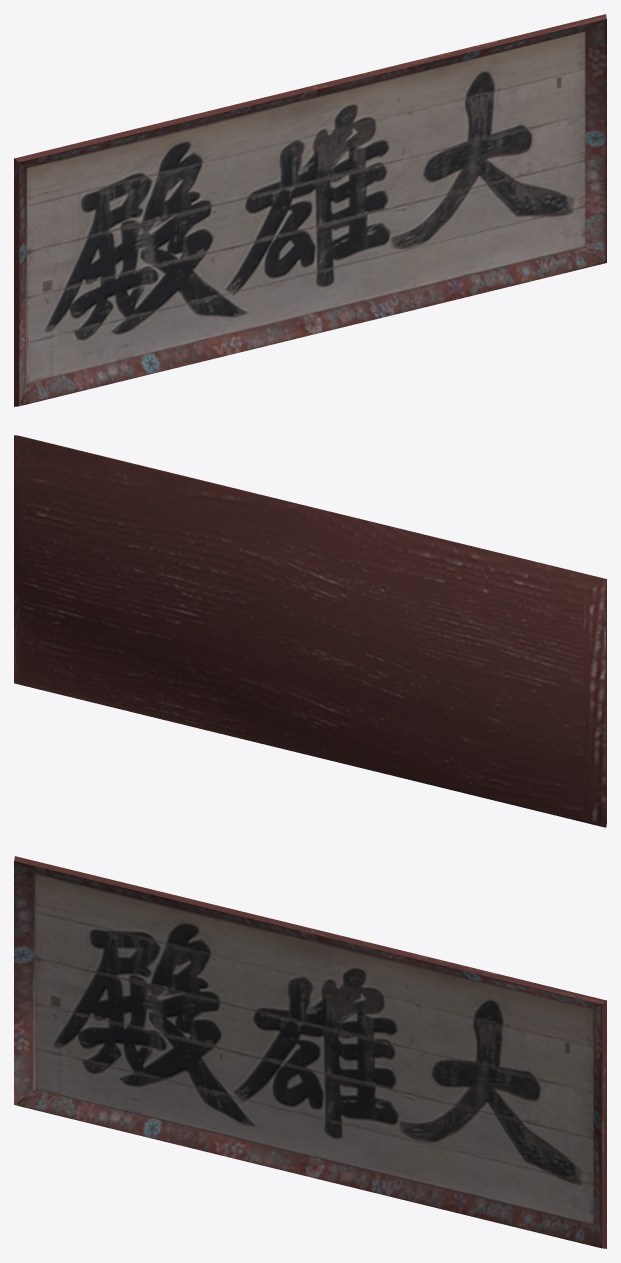
The model's file is SM_Ssang_Dae_Sign_A.fbx.
The picture shows the model from 3 angles, top to bottom: view 1: azimuth 30°, elevation 25°; view 2: azimuth 150°, elevation 25°; view 3: azimuth 330°, elevation 25°; orthographic projection.
Visible parts, largest first — view 1: SM_Ssang_Dae_Sign_A; view 2: SM_Ssang_Dae_Sign_A; view 3: SM_Ssang_Dae_Sign_A.
Part boxes in pixels (<box>): SM_Ssang_Dae_Sign_A: <box>14,14,606,406</box>; SM_Ssang_Dae_Sign_A: <box>14,435,606,827</box>; SM_Ssang_Dae_Sign_A: <box>14,856,606,1248</box>.
Bounding box in the file's own units: 396 × 159 × 11.61.
